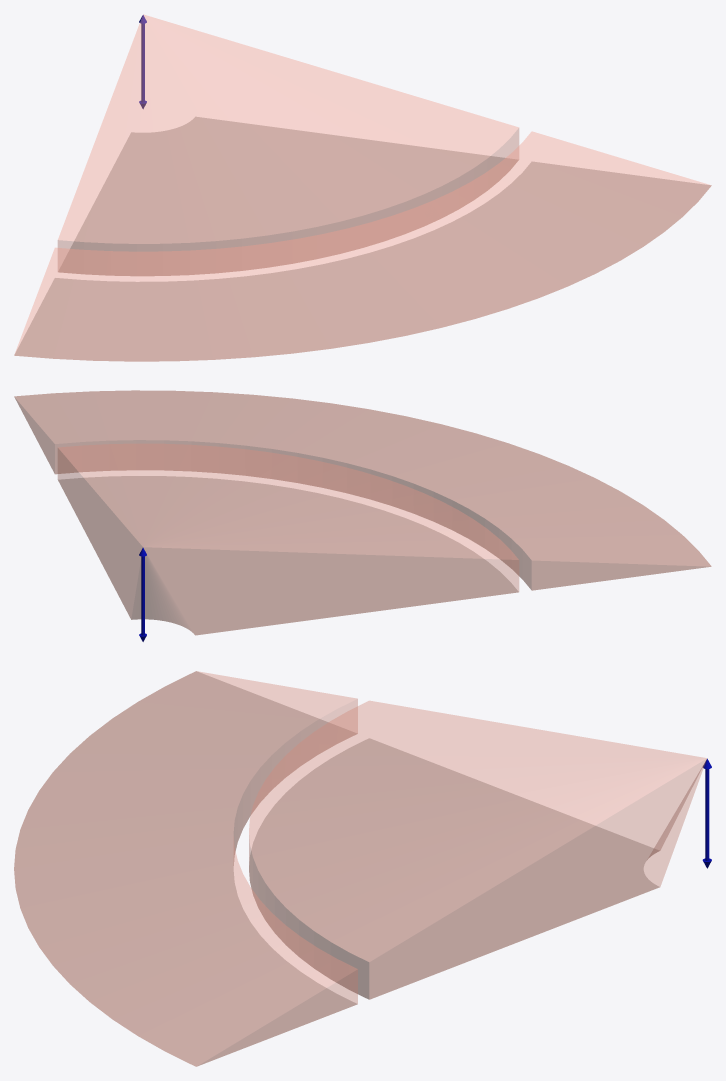
The model's file is area_07.glb.
3 views of the same model, one above another, from view 1: azimuth 30°, elevation 25°; view 2: azimuth 150°, elevation 25°; view 3: azimuth 270°, elevation 25° (orthographic). The views are drawn at different scales.
Visible parts, largest first — view 1: defaultobject; view 2: defaultobject; view 3: defaultobject.
Part boxes in pixels (<box>): defaultobject: <box>14,14,711,361</box>; defaultobject: <box>14,390,711,635</box>; defaultobject: <box>14,671,706,1066</box>.
Size of the model in its own units: 30.65 by 4 by 22.84.
